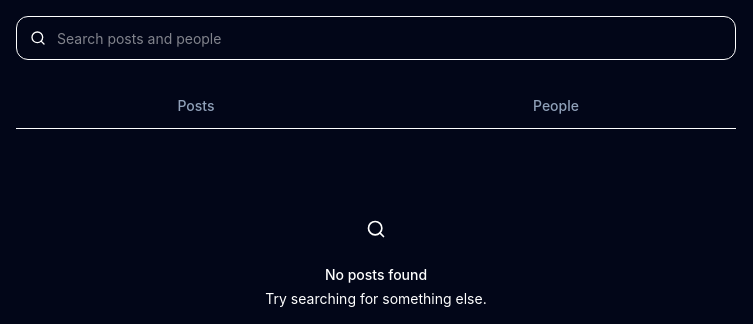
SearchPage › renders the default posts tab and provides clear-search behavior
Expected: the text "No posts found" is shown, [325,265,427,285]
In the field with placeholder "Search posts and people": (376, 38) [16,16,736,60], type "postify"
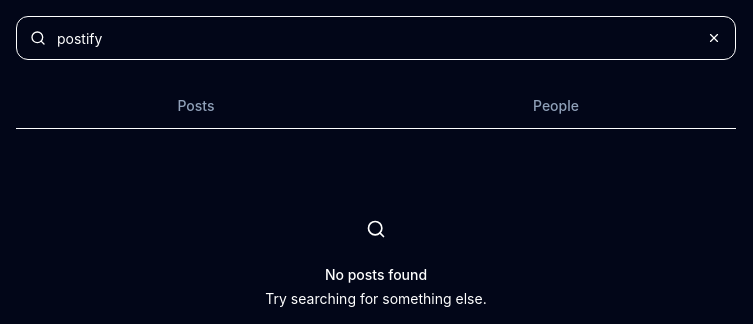
Result: the button named "Clear search" is shown
Click the button named "Clear search": (714, 38) [702,26,726,50]
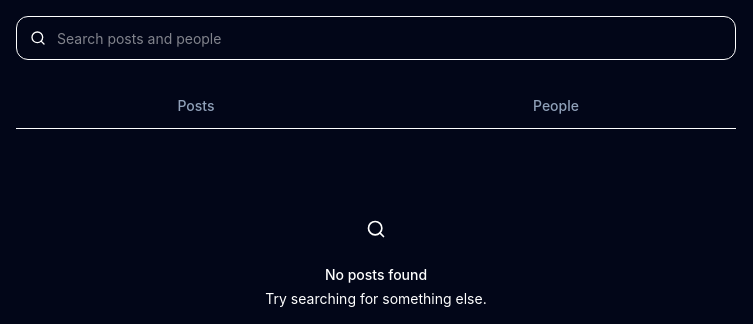
Result: the field with placeholder "Search posts and people" is empty at [16,16,736,60]
